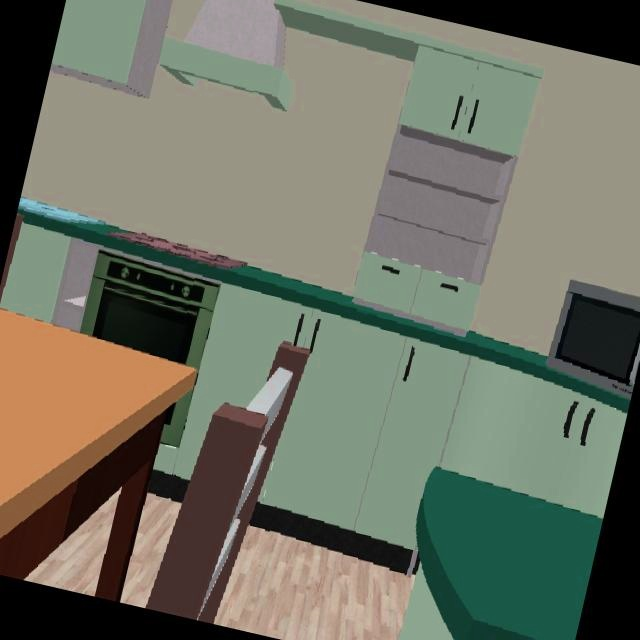cabinet: (147, 283, 627, 575), (272, 0, 543, 335), (49, 0, 172, 98), (0, 222, 99, 331), (398, 566, 454, 640)
chair: (145, 342, 311, 624)
countertop: (16, 197, 629, 415), (414, 467, 602, 640)
microwave: (545, 279, 640, 400)
oven: (79, 251, 220, 448)
stove: (107, 232, 245, 270)
table: (0, 308, 197, 602)
